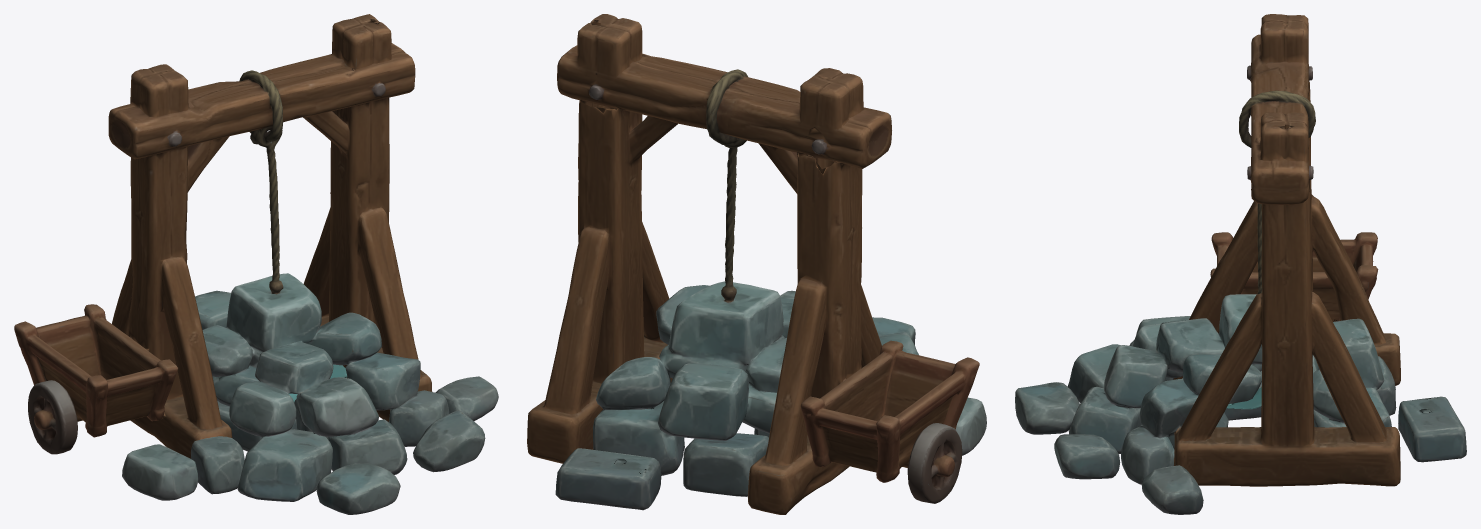
The model's file is siege_mine.glb.
The picture shows the model from 3 angles, left to right: view 1: azimuth 30°, elevation 25°; view 2: azimuth 150°, elevation 25°; view 3: azimuth 270°, elevation 25°; orthographic projection. The views are drawn at different scales.
Visible parts, largest first — view 1: geometry_0; view 2: geometry_0; view 3: geometry_0.
Part boxes in pixels (bbox=[...]): geometry_0: bbox=[14, 14, 498, 514]; geometry_0: bbox=[527, 14, 986, 514]; geometry_0: bbox=[1015, 14, 1466, 514].
Bounding box in the file's own units: 1 × 0.8758 × 0.9893.
1 material, 1 textured.
